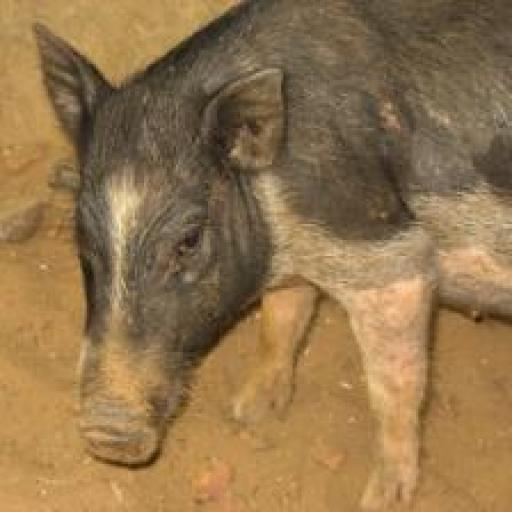Pig: (34, 2, 512, 497)
